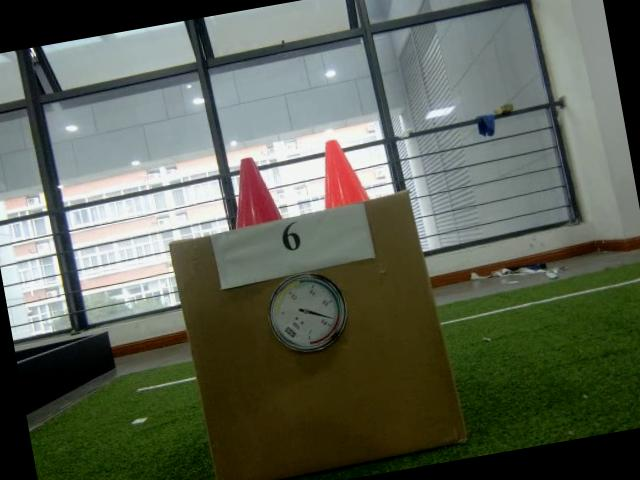6: (276, 218, 304, 253)
Dashboard: (262, 267, 353, 359)
orange_barrel: (311, 134, 372, 210)
red_barrel: (222, 152, 284, 228)
ssi: (284, 325, 296, 338)
